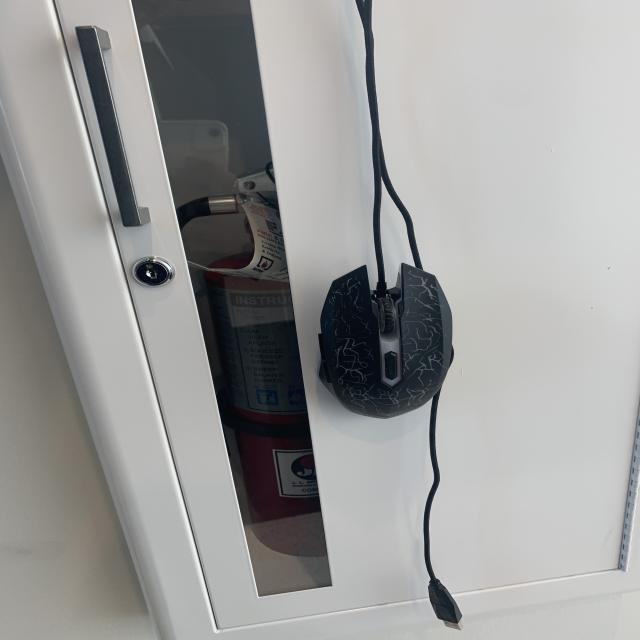Mouse: (313, 262, 462, 425)
